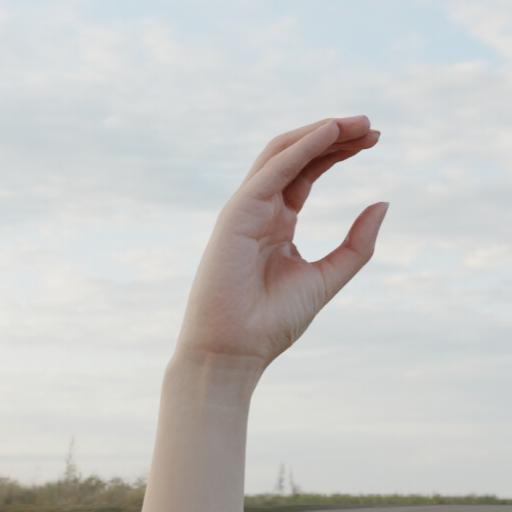C: (164, 100, 414, 375)
